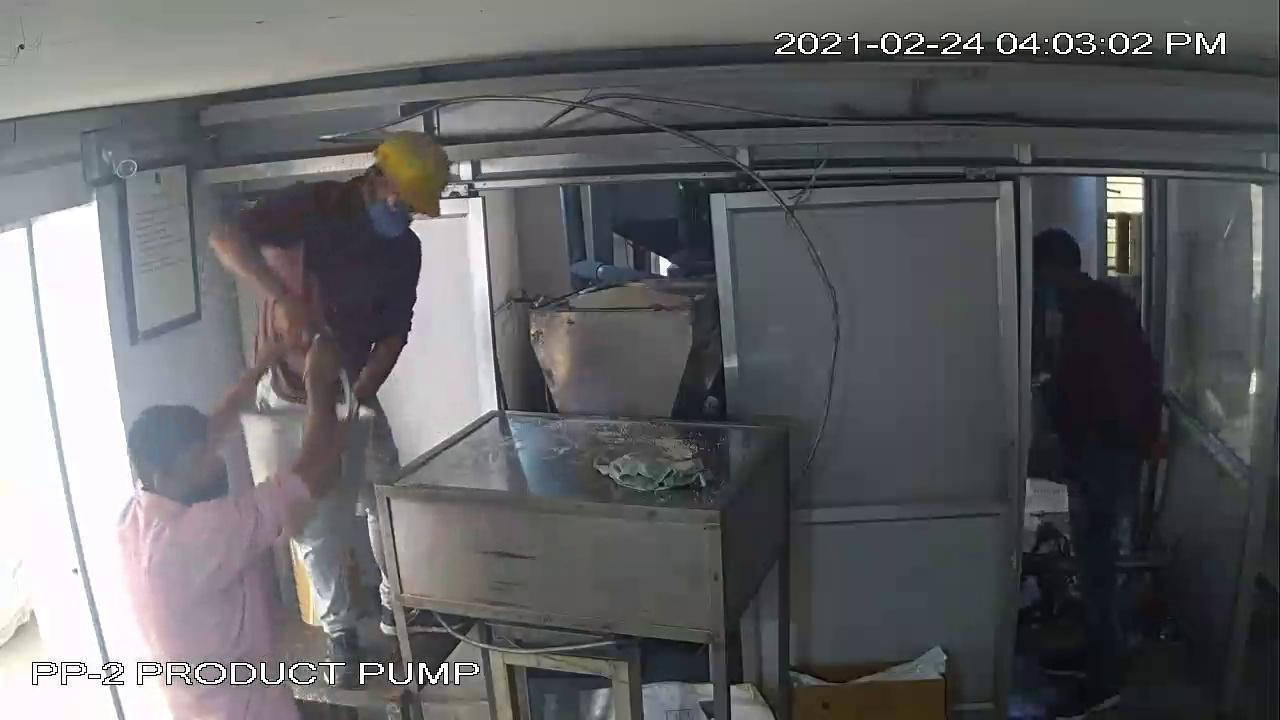helmet: (363, 124, 455, 232)
